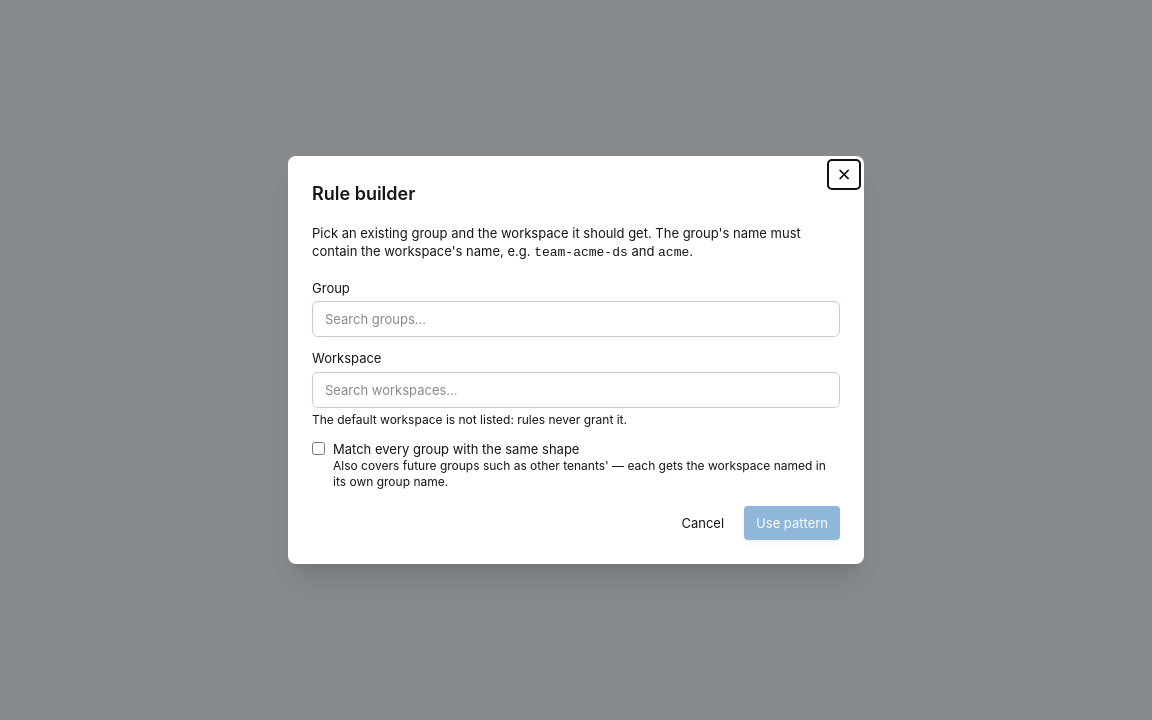
Test case: RuleBuilderModal › filters the groups as you type
Type "beta" into the dropdown labelled "Group" at (576, 319), box [312,301,840,337]
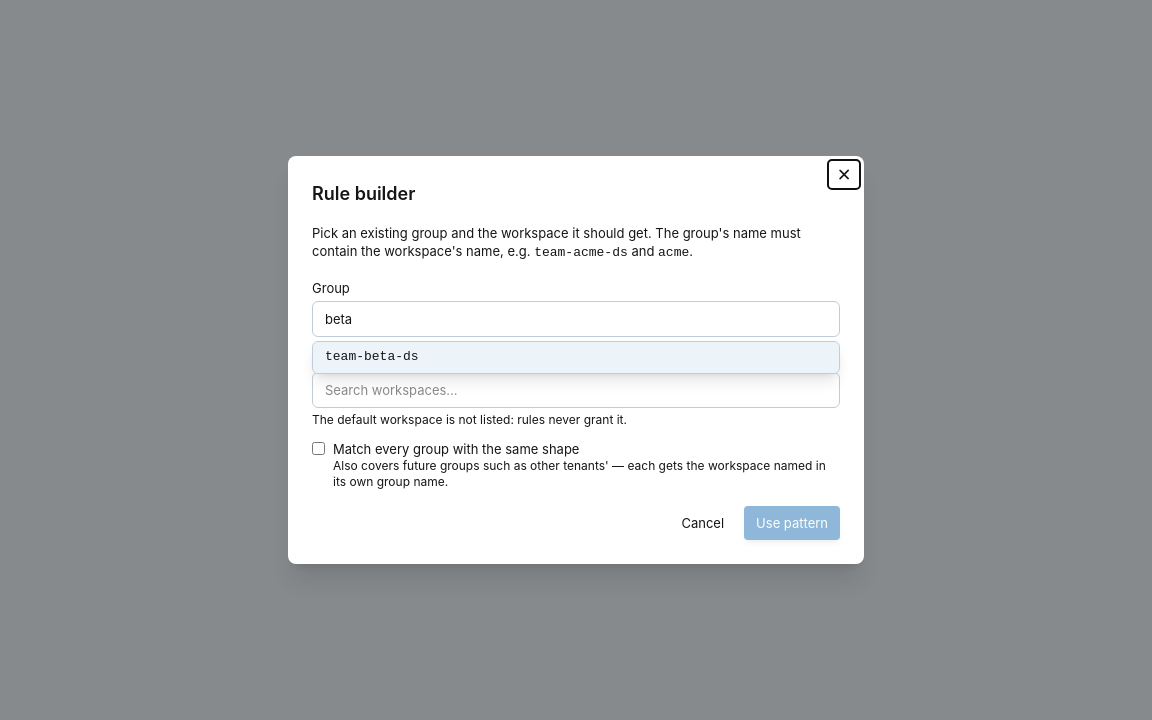
Now the options read "team-beta-ds", in this order, box [313,342,839,373]
